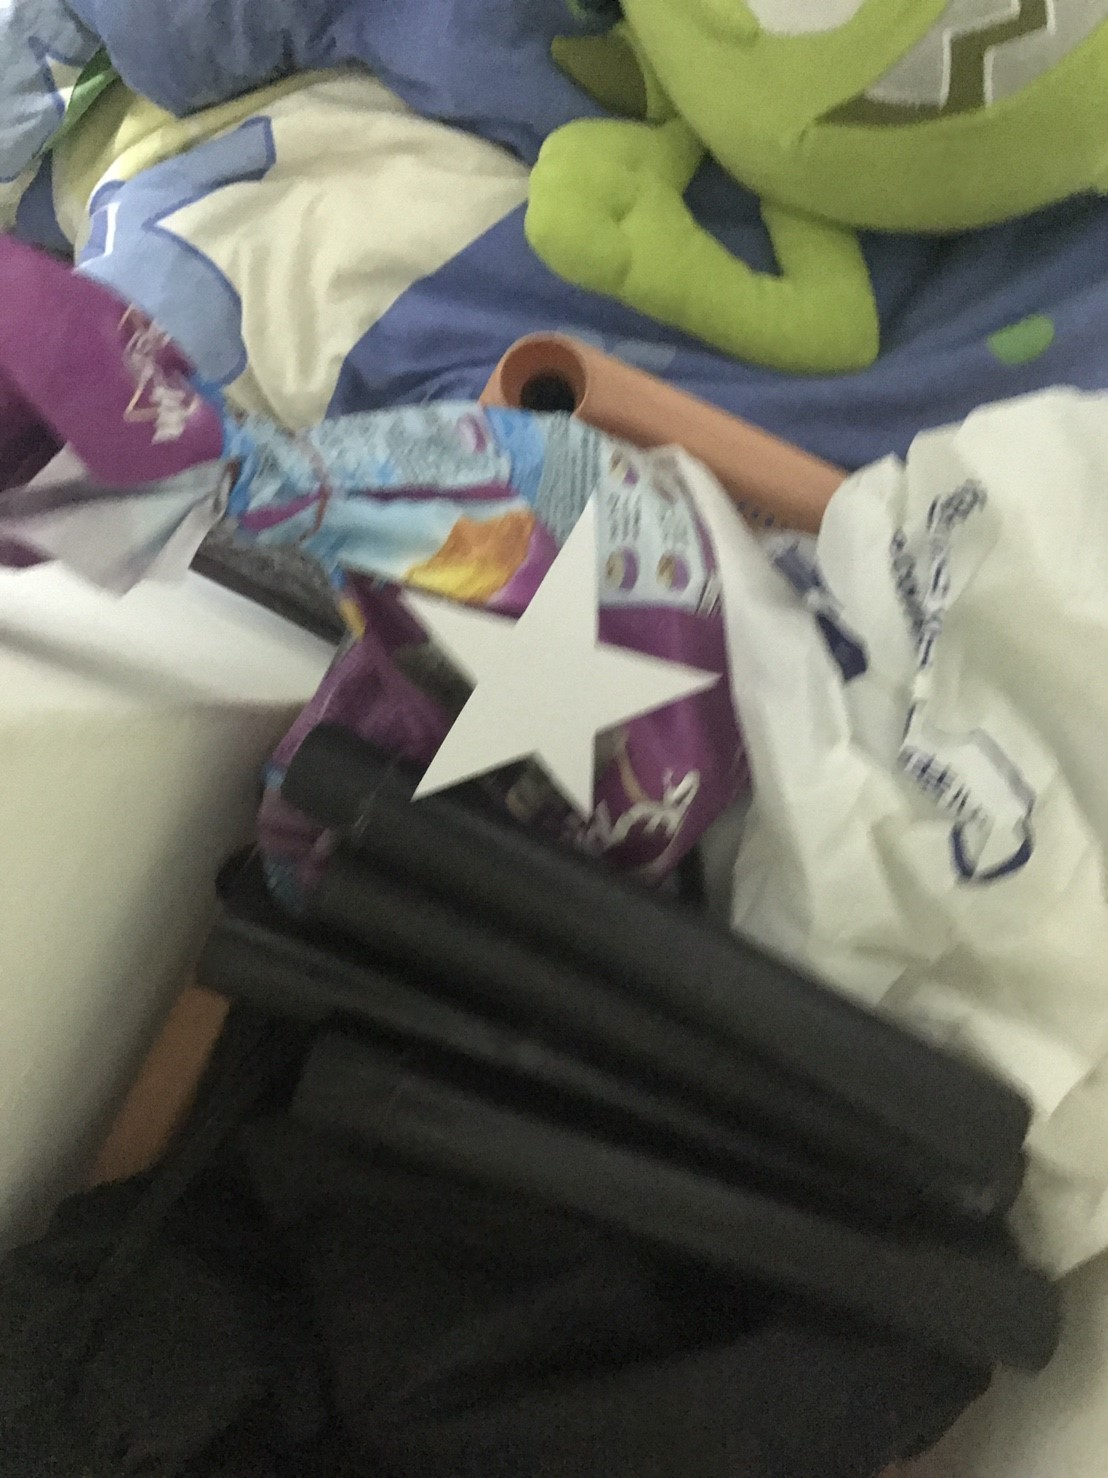star: (369, 479, 731, 876)
